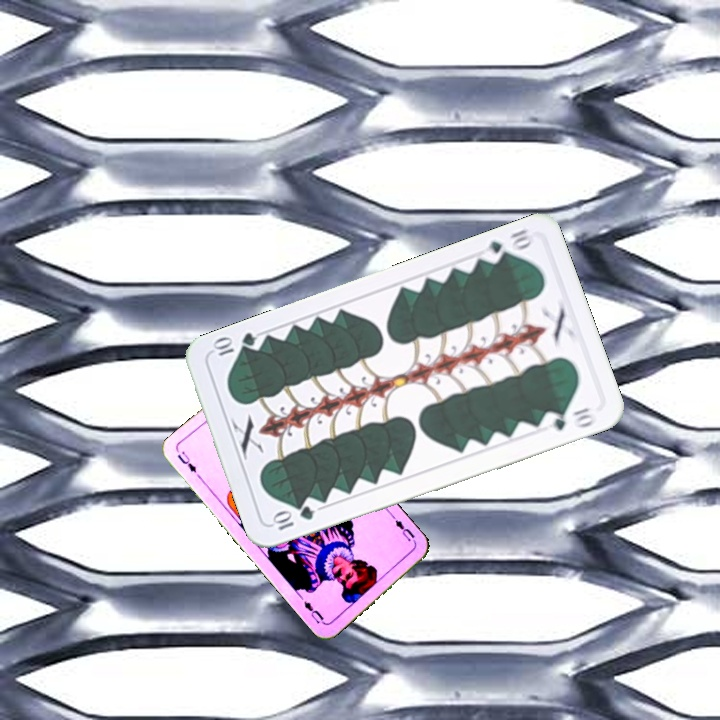EU: (173, 447, 204, 482), (391, 516, 417, 544)
G10: (477, 225, 537, 266), (268, 502, 317, 533)
